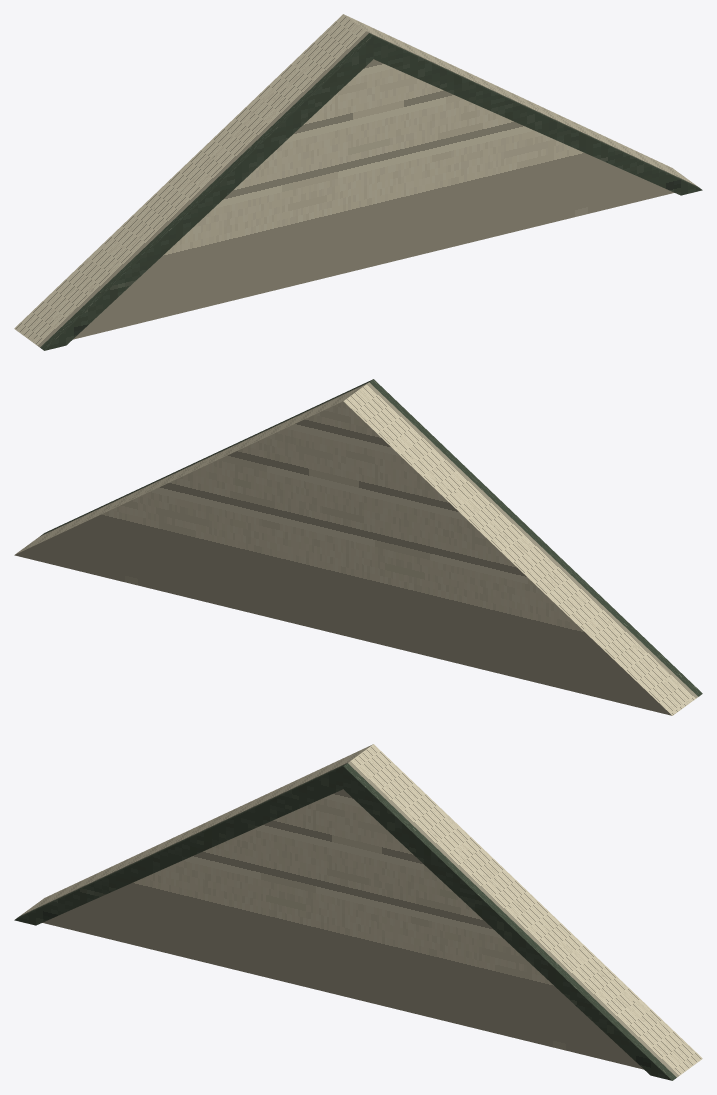
Rendered from house_01_gable.glb.
3 views of the same model, one above another, from view 1: azimuth 30°, elevation 25°; view 2: azimuth 150°, elevation 25°; view 3: azimuth 330°, elevation 25° (orthographic).
Visible parts, largest first — view 1: house_01_gable; view 2: house_01_gable; view 3: house_01_gable.
Part boxes in pixels (x1,y1,x2,y2): house_01_gable: (14,14,702,350); house_01_gable: (14,379,702,715); house_01_gable: (14,744,702,1080).
Bounding box in the file's own units: 3 × 1.02 × 0.24.
2 materials, 2 textured.
